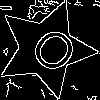O: (21, 23, 82, 84)
